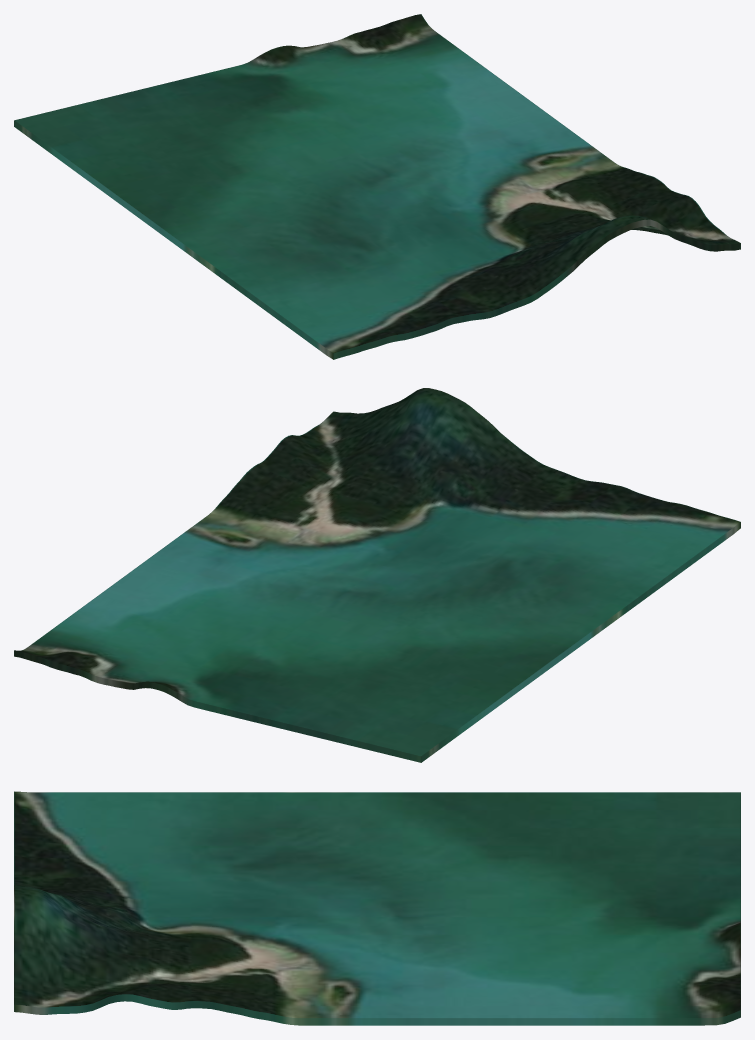
3 views of the same model, one above another, from view 1: azimuth 30°, elevation 25°; view 2: azimuth 150°, elevation 25°; view 3: azimuth 270°, elevation 25° (orthographic). The views are drawn at different scales.
Visible parts, largest first — view 1: tile; view 2: tile; view 3: tile.
Boxes of the visible parts, <box> form: tile: <box>14,14,740,359</box>; tile: <box>14,388,740,762</box>; tile: <box>14,791,740,1025</box>.
Bounding box in the file's own units: 2025 × 308 × 2752.
1 material, 1 textured.
